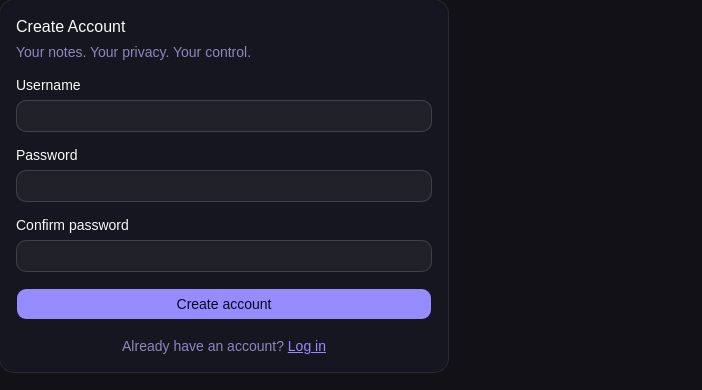
Scenario: RegisterPage › shows password strength indicator in popover when password field is focused
Click the password field labelled "Password" at point(224, 186), box x1=16 y1=170 x2=432 y2=202
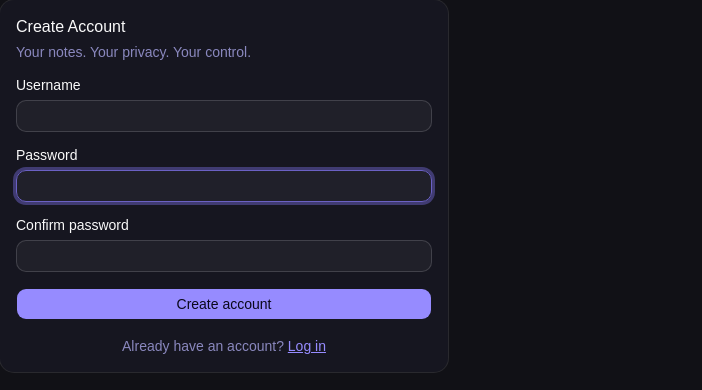
Type keys "a"
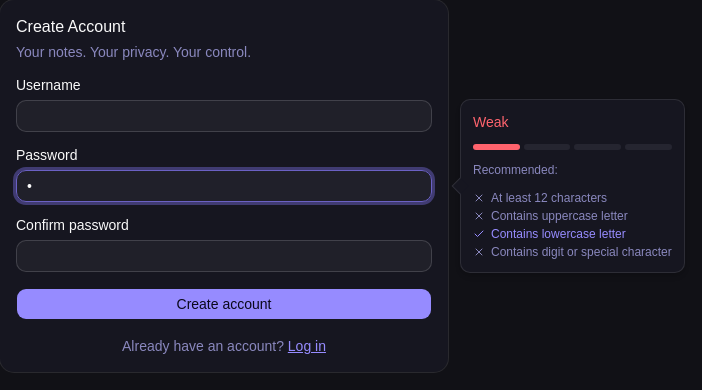
Check: the text "Weak" is shown, box x1=473 y1=114 x2=508 y2=130
